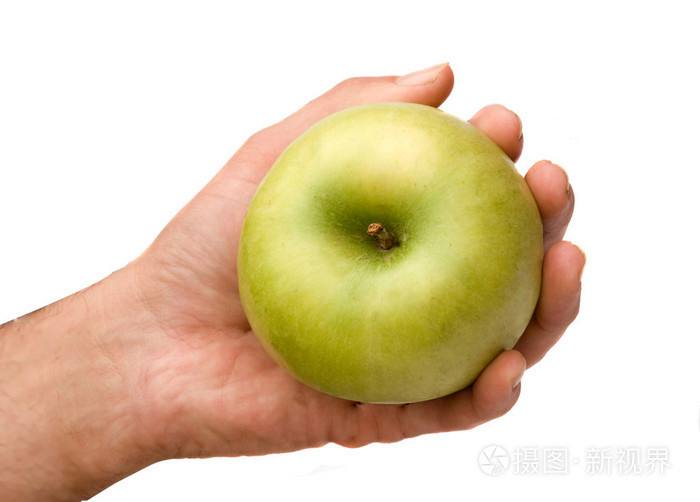no-phone: (88, 59, 590, 485)
